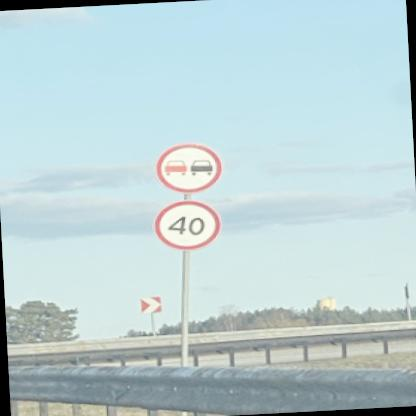speedlimit: (150, 198, 219, 252)
